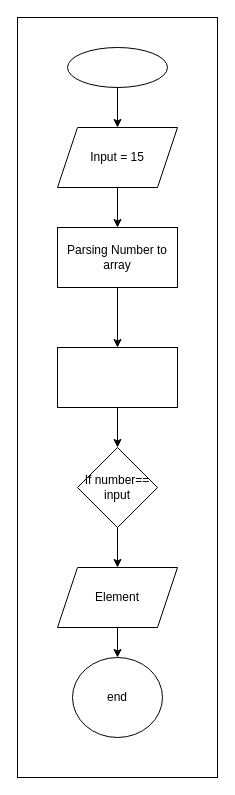
Image size: 235x795. Some labels were removed from this diagram. Each missing label, with the centre of its shape:
Index number start from 1: point 117,377
Start: point 117,67
